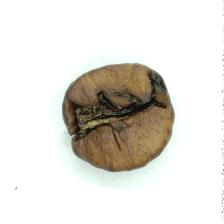NG: (63, 69, 169, 143)
